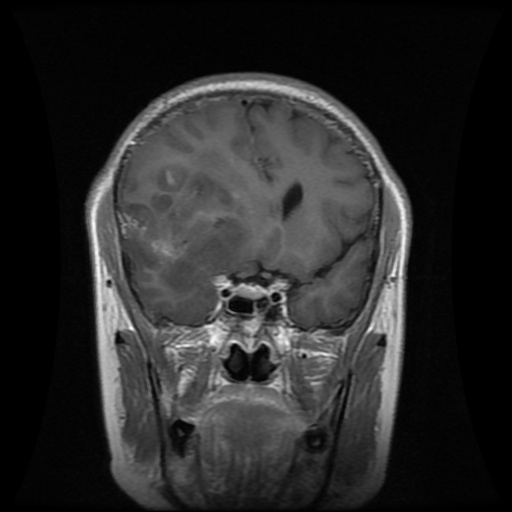glioma: (120, 149, 282, 321)
